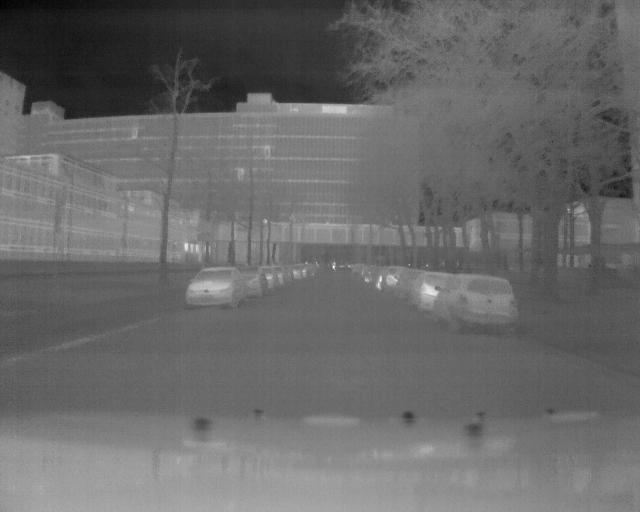car: (430, 275, 519, 330), (184, 267, 248, 313), (247, 265, 267, 299)
